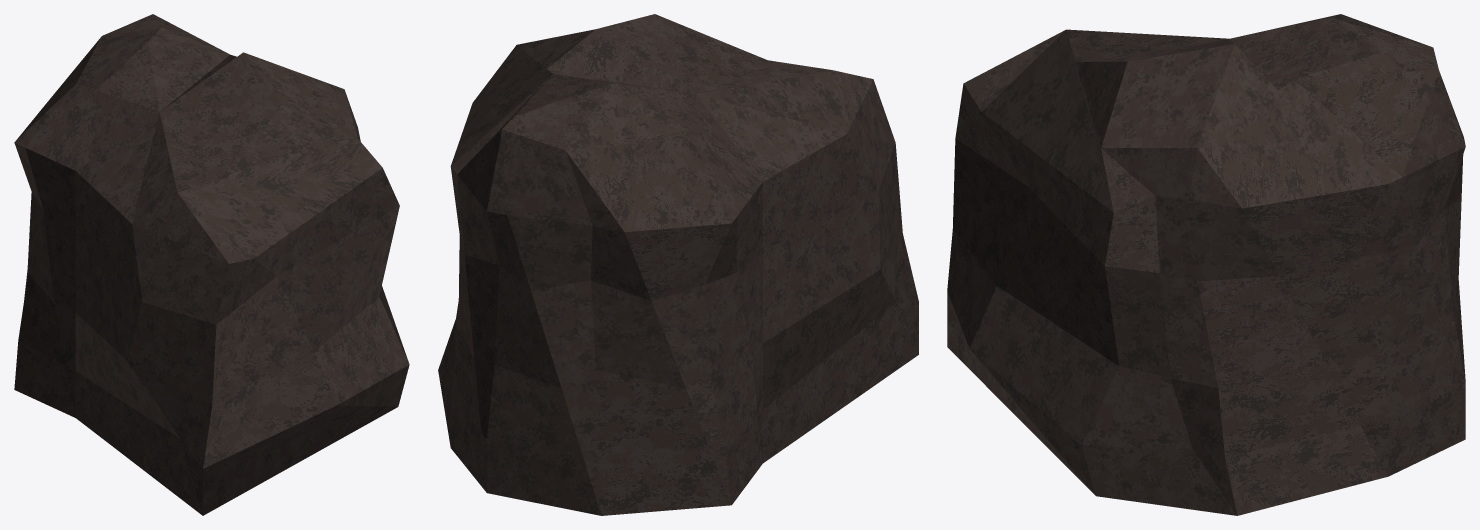
The model's file is hill1.fbx.
The picture shows the model from 3 angles, left to right: view 1: azimuth 30°, elevation 25°; view 2: azimuth 150°, elevation 25°; view 3: azimuth 270°, elevation 25°; orthographic projection. The views are drawn at different scales.
Visible parts, largest first — view 1: PolyShape__2_.002; view 2: PolyShape__2_.002; view 3: PolyShape__2_.002.
Boxes of the visible parts, x1,y1,x2,y2 form: PolyShape__2_.002: [14, 14, 409, 515]; PolyShape__2_.002: [438, 14, 918, 515]; PolyShape__2_.002: [947, 14, 1465, 515].
Size of the model in its own units: 1670 by 1671 by 1980.
